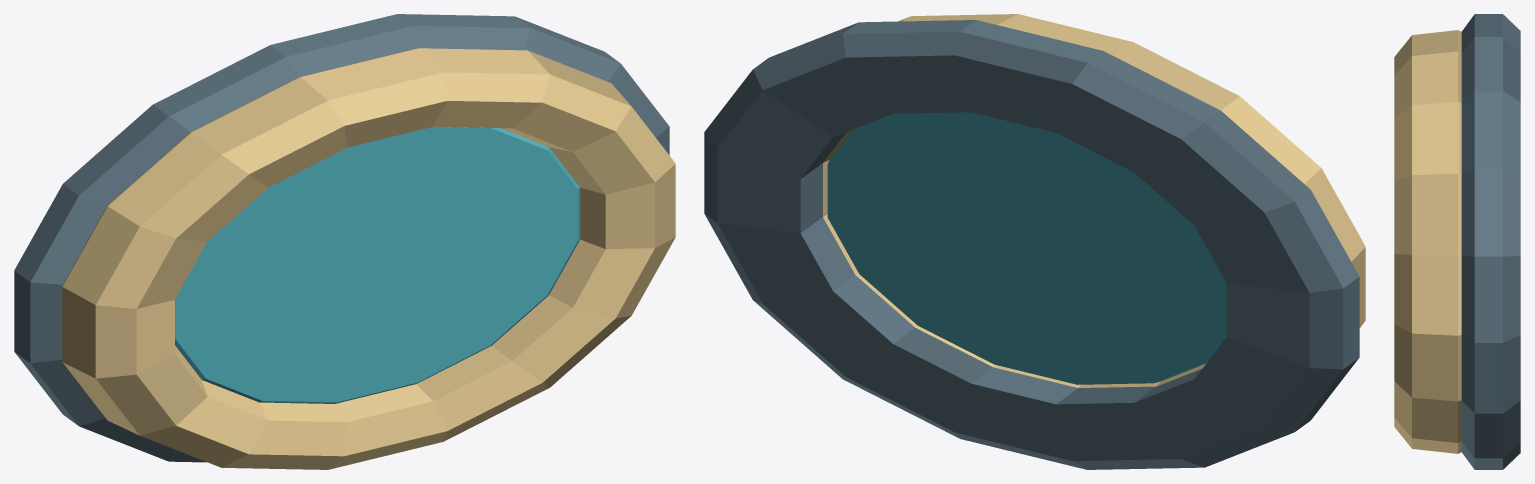
Rendered from ER_PanoramicWindow.fbx.
3 views of the same model, side by side, from view 1: azimuth 30°, elevation 25°; view 2: azimuth 150°, elevation 25°; view 3: azimuth 270°, elevation 25° (orthographic). The views are drawn at different scales.
Parts seen in each view (by area): view 1: ER_PanoramicWindow; view 2: ER_PanoramicWindow; view 3: ER_PanoramicWindow.
Boxes of the visible parts, x1,y1,x2,y2 form: ER_PanoramicWindow: [14, 14, 675, 469]; ER_PanoramicWindow: [704, 14, 1365, 469]; ER_PanoramicWindow: [1394, 14, 1520, 469].
Bounding box in the file's own units: 0.7309 × 0.4449 × 0.143.
